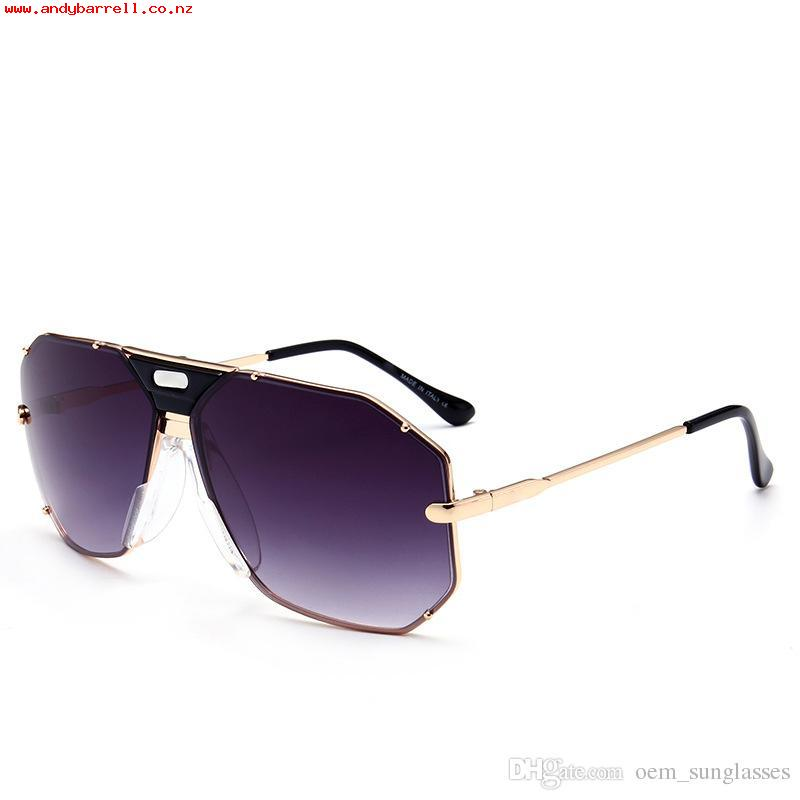sunglasses: (8, 319, 790, 637)
